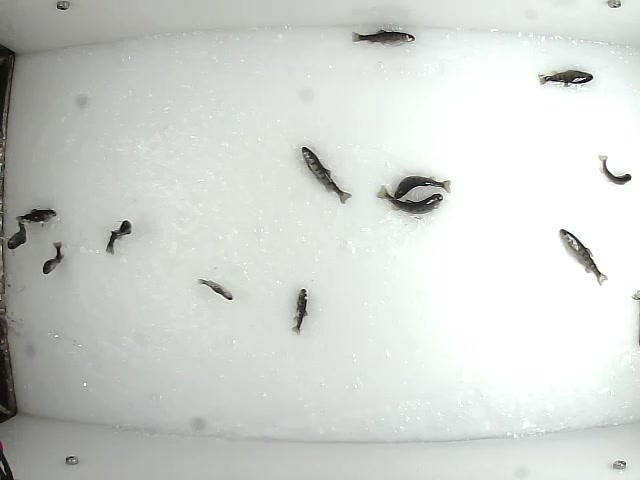fish: (557, 226, 610, 289), (299, 145, 353, 204), (372, 182, 443, 216), (390, 172, 452, 203), (350, 26, 416, 48), (597, 153, 633, 187), (536, 68, 593, 89), (102, 218, 131, 257), (195, 276, 234, 304), (39, 236, 67, 275), (288, 287, 310, 336), (4, 212, 27, 252), (16, 206, 58, 227)
